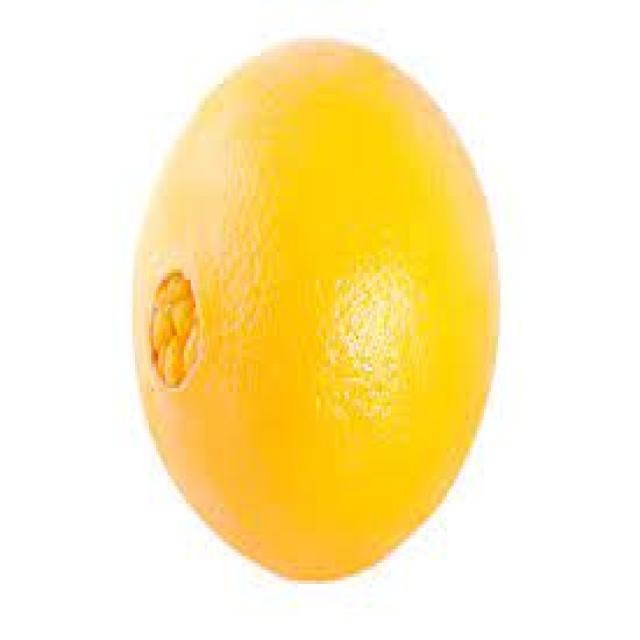Good_Orange: (123, 35, 503, 588)
